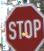Stop sign: (0, 0, 43, 50)
